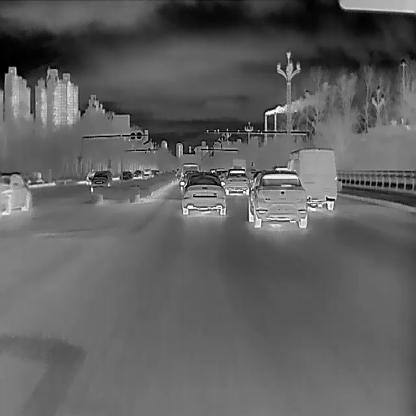car: (248, 170, 308, 228), (287, 147, 337, 210), (180, 174, 227, 214), (0, 171, 31, 214), (221, 170, 247, 194), (90, 170, 113, 192), (180, 168, 200, 190), (180, 163, 200, 181), (140, 168, 152, 182), (119, 170, 132, 182), (132, 169, 143, 181)
